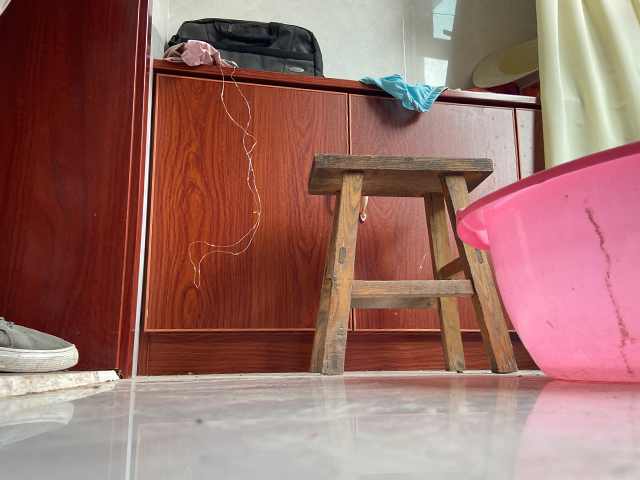cabinet: (134, 58, 545, 375)
stool: (303, 154, 521, 375)
